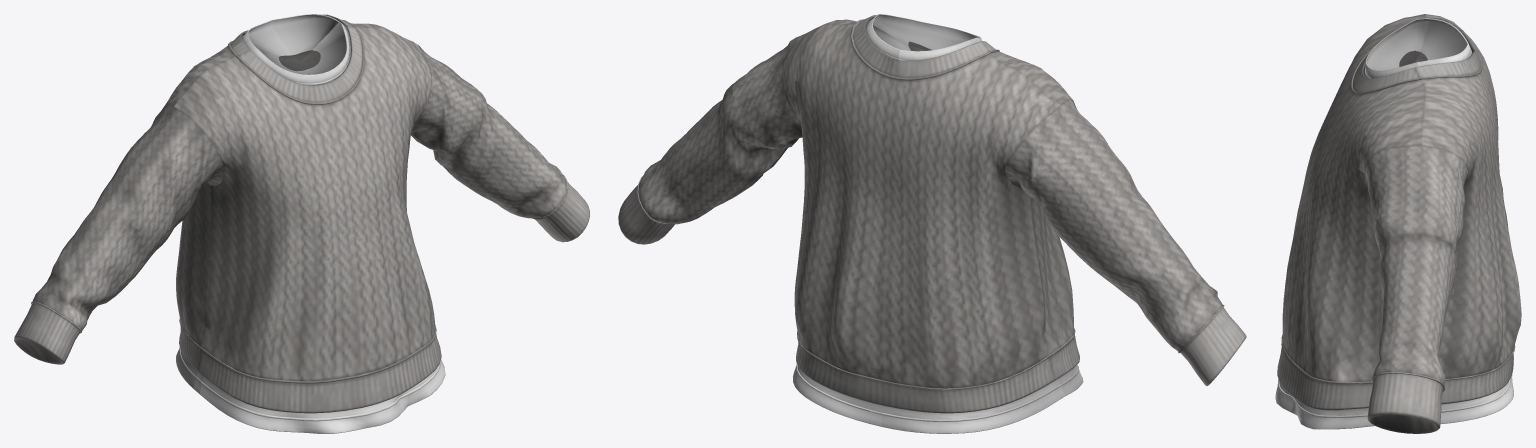
File: top6.glb
3 renders of one model, left to right at view 1: azimuth 30°, elevation 25°; view 2: azimuth 150°, elevation 25°; view 3: azimuth 270°, elevation 25°, orthographic. The views are drawn at different scales.
Visible parts, largest first — view 1: s4studio_mesh_1; view 2: s4studio_mesh_1; view 3: s4studio_mesh_1.
Part boxes in pixels (<box>): s4studio_mesh_1: <box>14,14,589,433</box>; s4studio_mesh_1: <box>618,14,1246,433</box>; s4studio_mesh_1: <box>1275,14,1521,433</box>.
Size of the model in its own units: 0.5301 by 0.3137 by 0.1979.
Materials: 1 (1 with a texture image).
